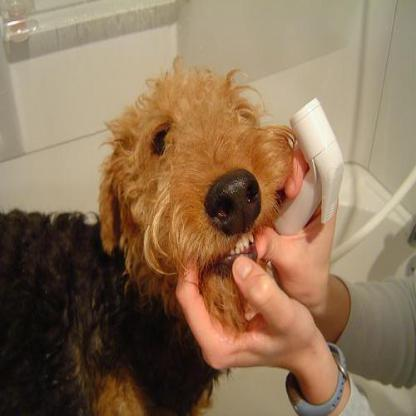dog: (80, 59, 289, 343)
